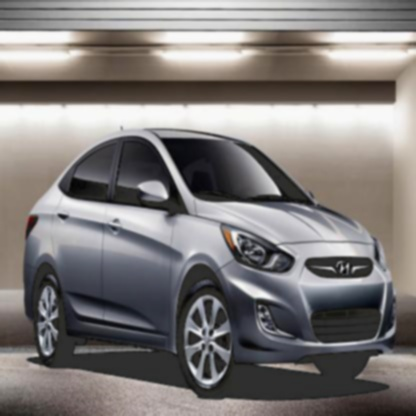Vehicle: (22, 127, 398, 401)
